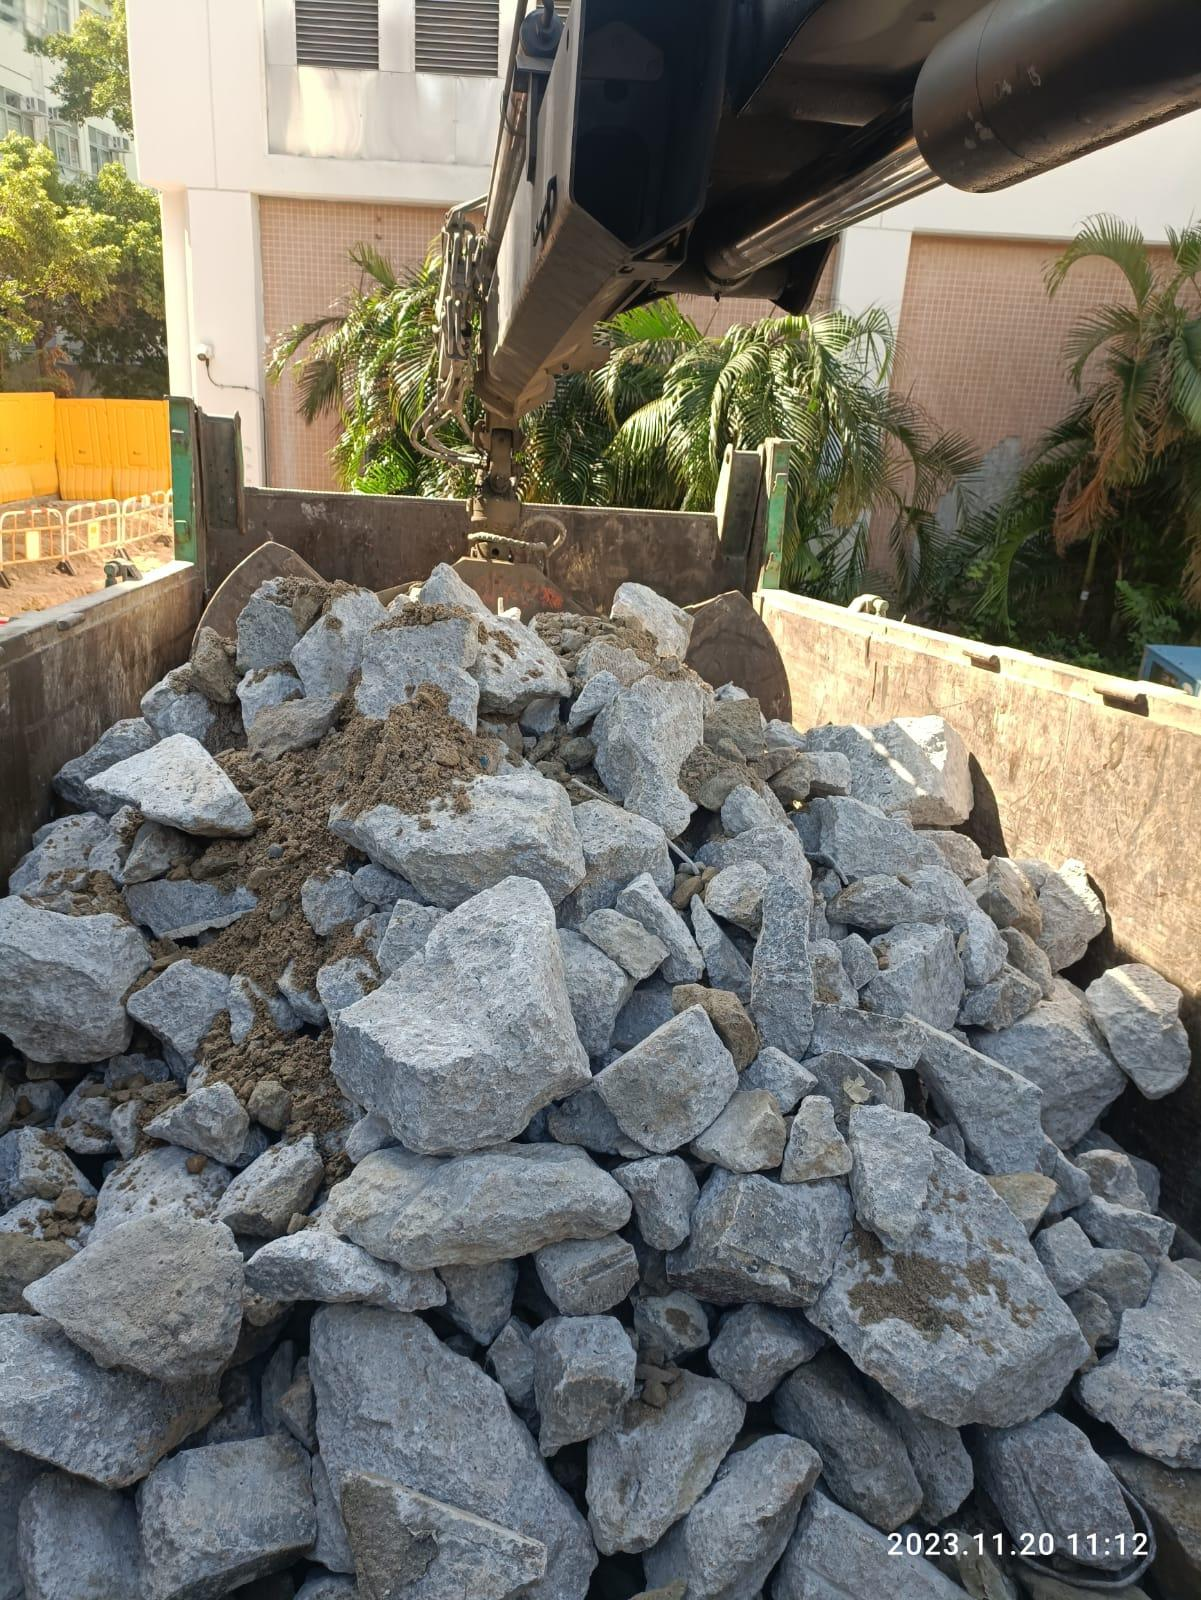dry: (15, 575, 1180, 1587)
